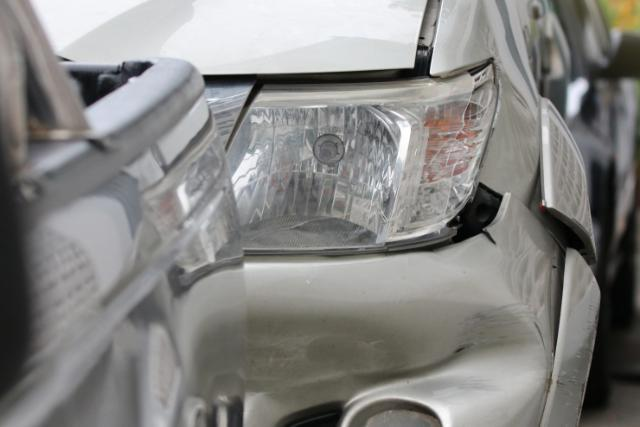Bumper: (338, 211, 597, 427)
